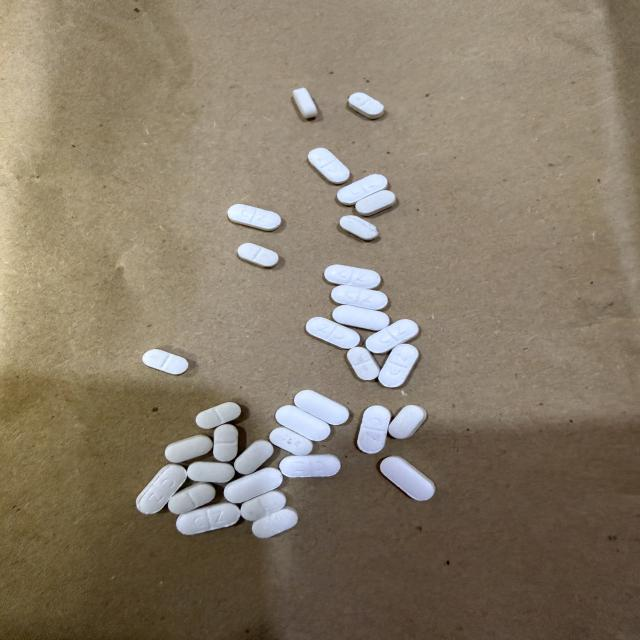pill: (136, 465, 186, 514), (380, 456, 435, 500), (224, 468, 282, 503), (177, 503, 240, 534), (275, 406, 330, 441), (294, 390, 349, 425), (366, 319, 419, 353), (378, 344, 419, 387), (306, 317, 361, 348), (337, 174, 387, 205), (308, 148, 350, 184), (358, 406, 390, 453), (168, 483, 215, 514), (228, 204, 281, 231), (332, 285, 388, 310), (333, 305, 389, 330), (252, 507, 297, 538), (234, 440, 273, 475), (241, 491, 286, 521), (280, 455, 340, 477), (324, 265, 380, 288), (165, 435, 212, 462), (389, 405, 427, 438), (270, 427, 312, 455), (196, 402, 241, 428), (347, 347, 380, 380), (143, 350, 188, 374), (187, 461, 235, 483), (356, 190, 396, 216), (238, 243, 278, 267), (340, 216, 378, 241), (213, 424, 238, 462), (349, 93, 383, 119), (293, 88, 317, 119)
